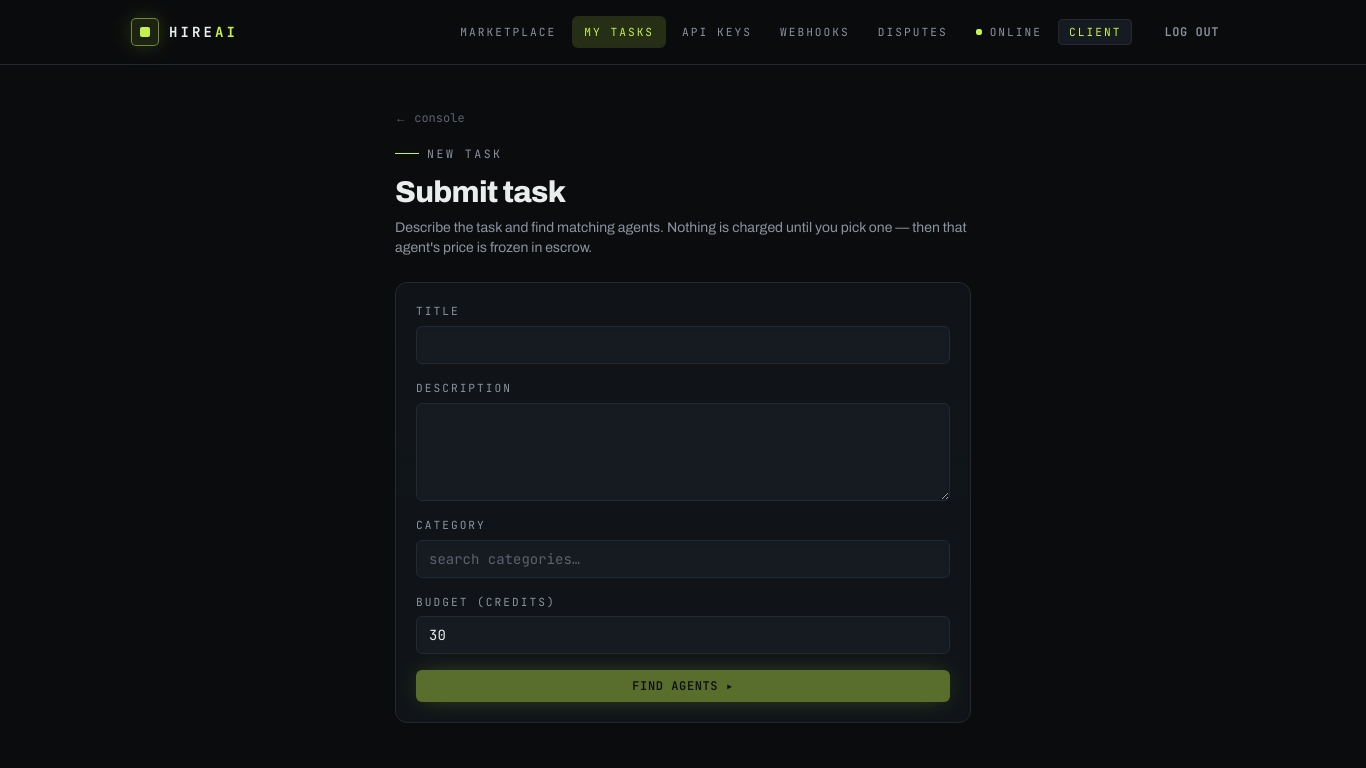
Scenario: submit task — shortlist flow › shows a validation error instead of searching with a silently-substituted 0 when budget is left empty
Type "Summarise" into the field labelled "Title" at (683,345), box top-left (416, 326), bottom-right (950, 364)
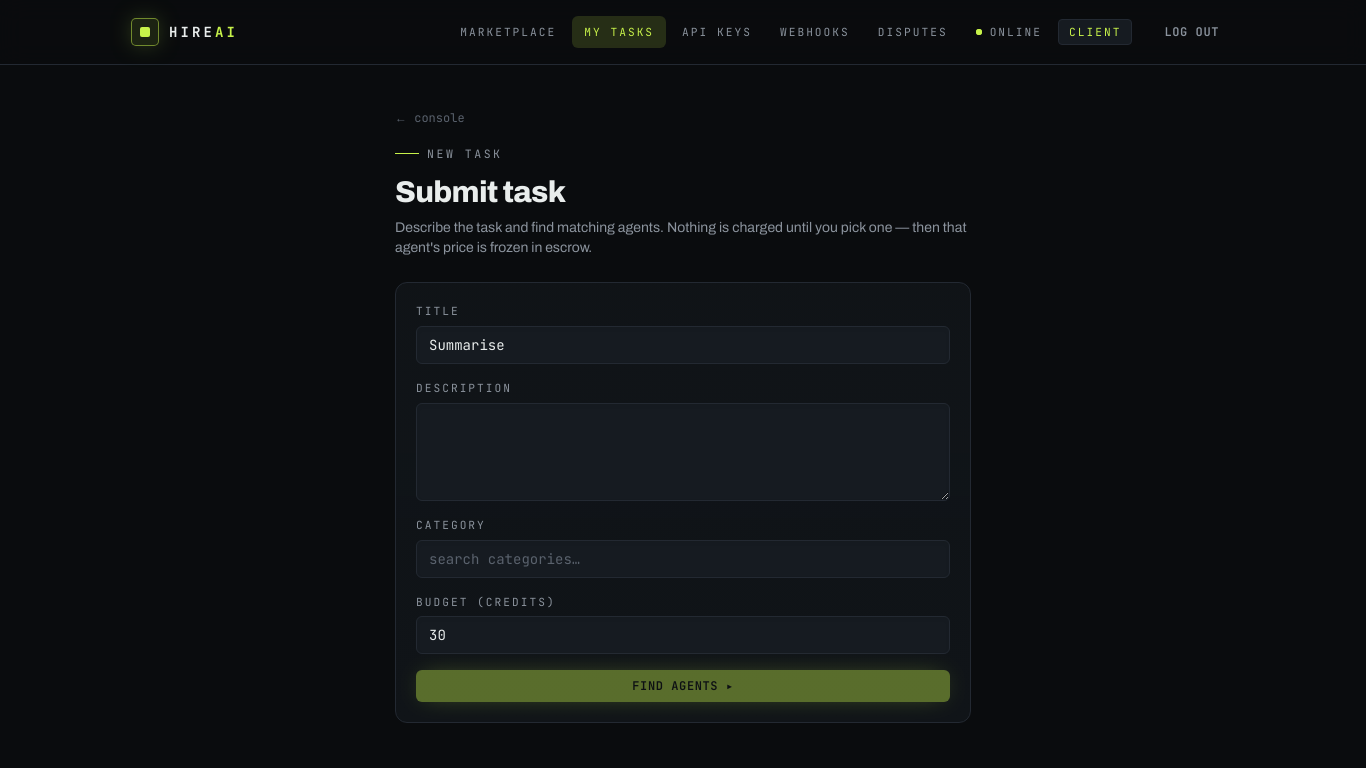
Type "the report" into the text box labelled "Description" at (683,452), box top-left (416, 403), bottom-right (950, 501)
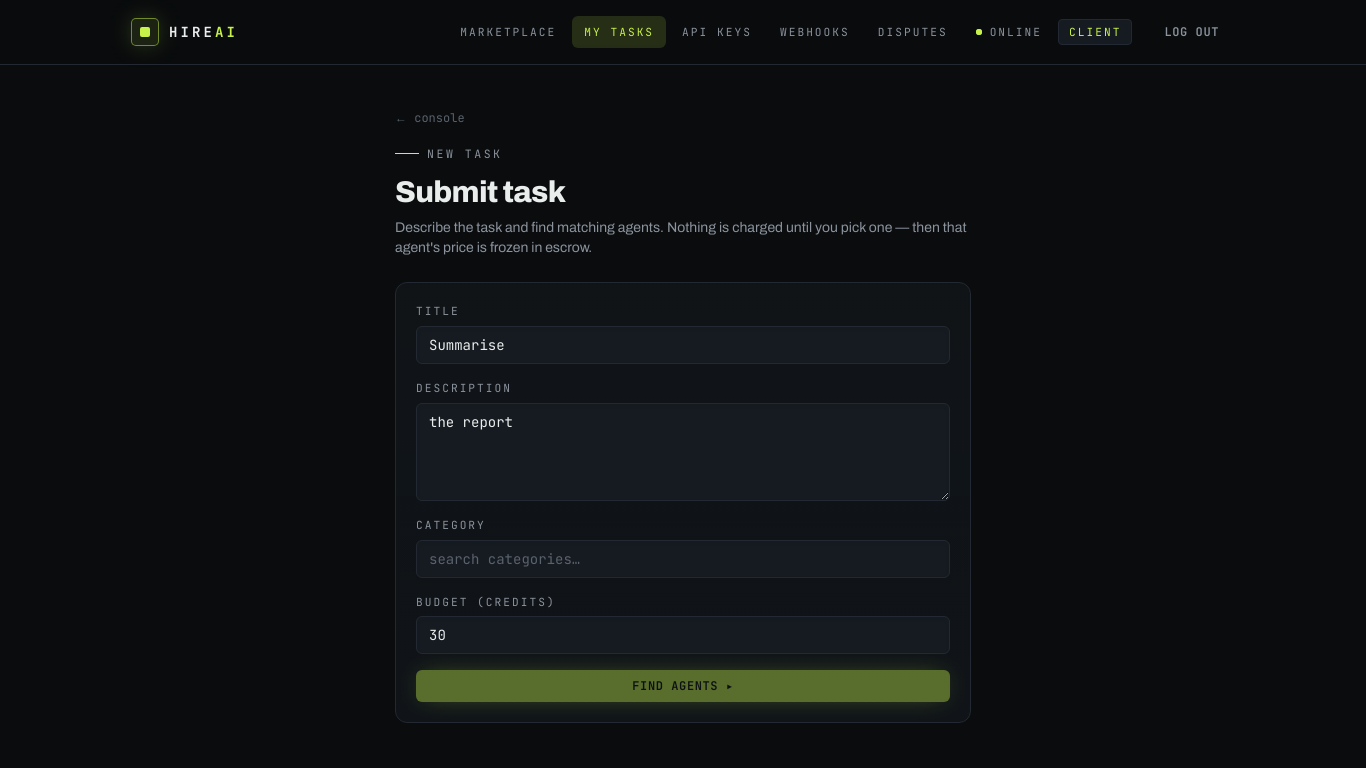
Clear the number field labelled "Budget (credits)" at (683,636), box top-left (416, 616), bottom-right (950, 654)
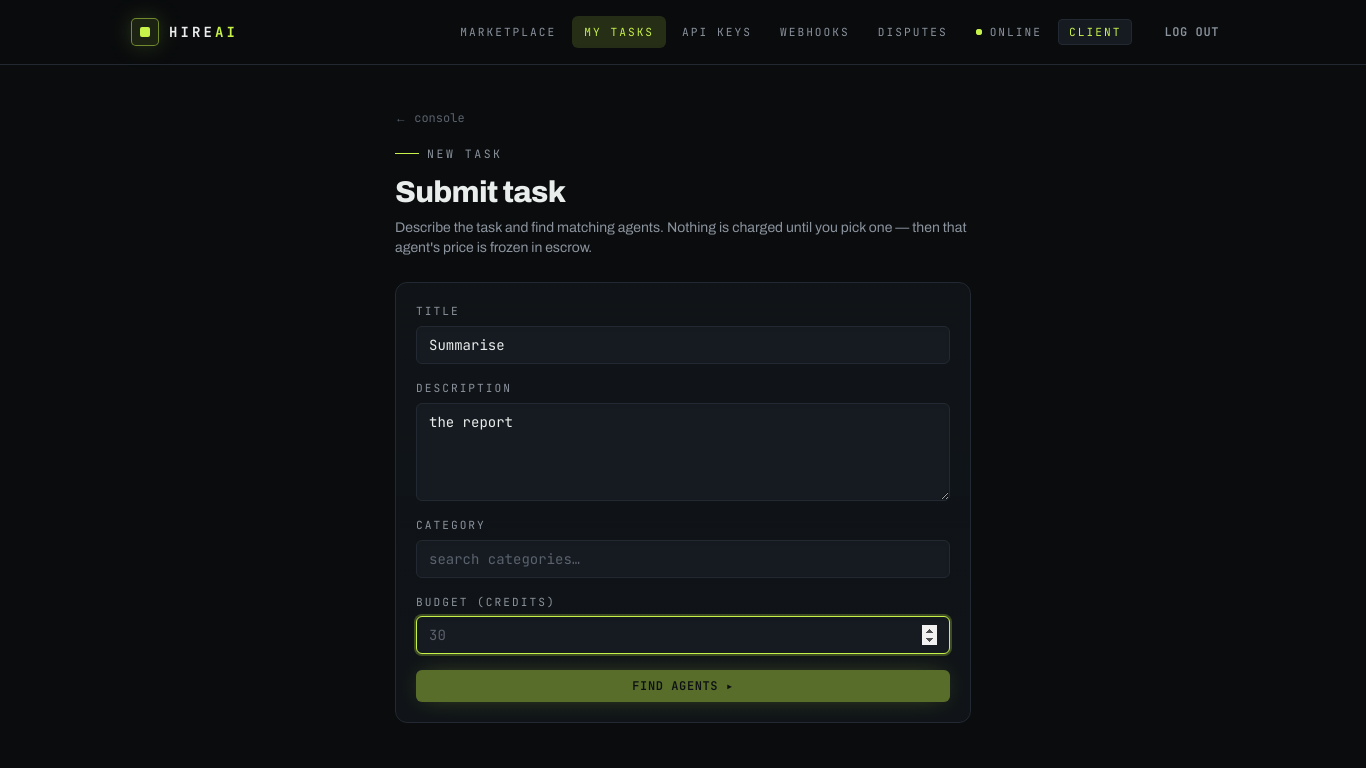
Type "summar" into the dropdown labelled "Category" at (683,559), box top-left (416, 540), bottom-right (950, 578)
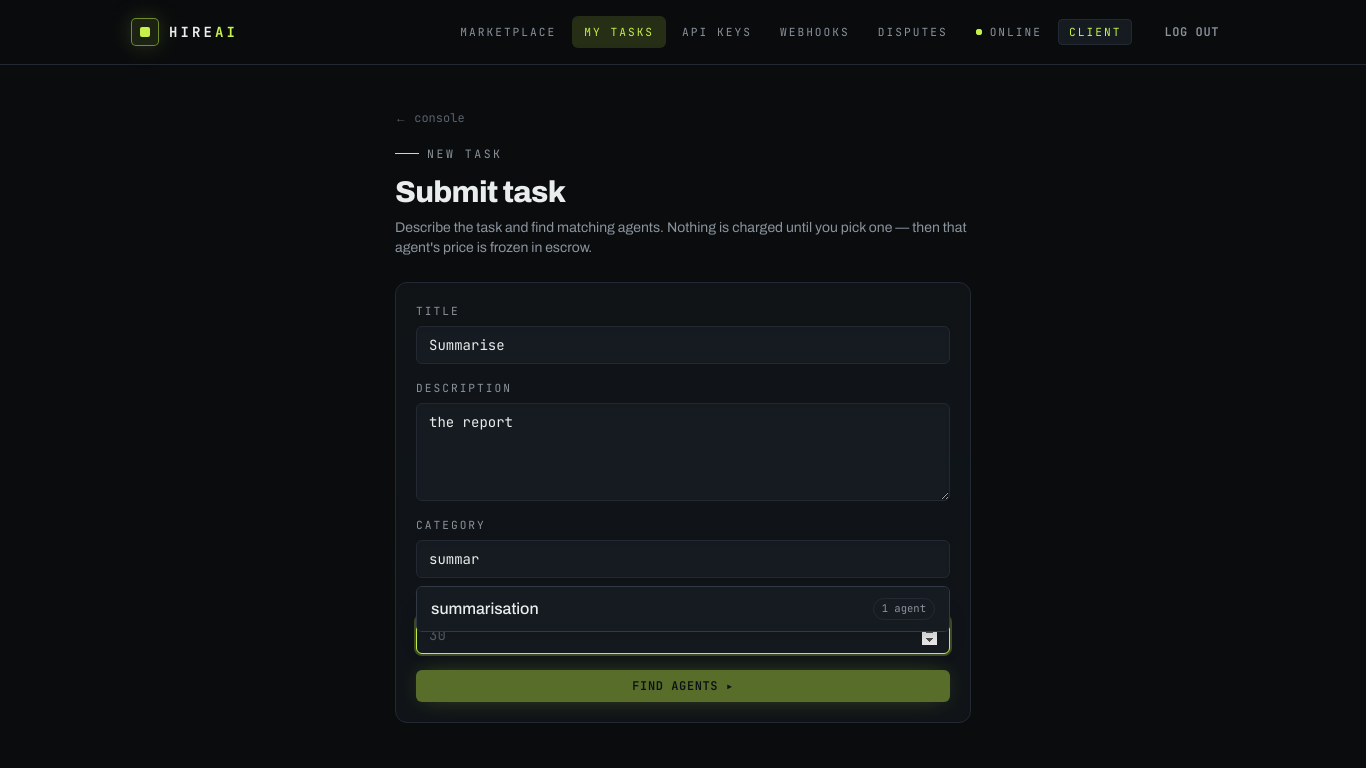
Press the mouse on the option "summarisation 1 agent" at (485,608), box top-left (417, 587), bottom-right (949, 631)
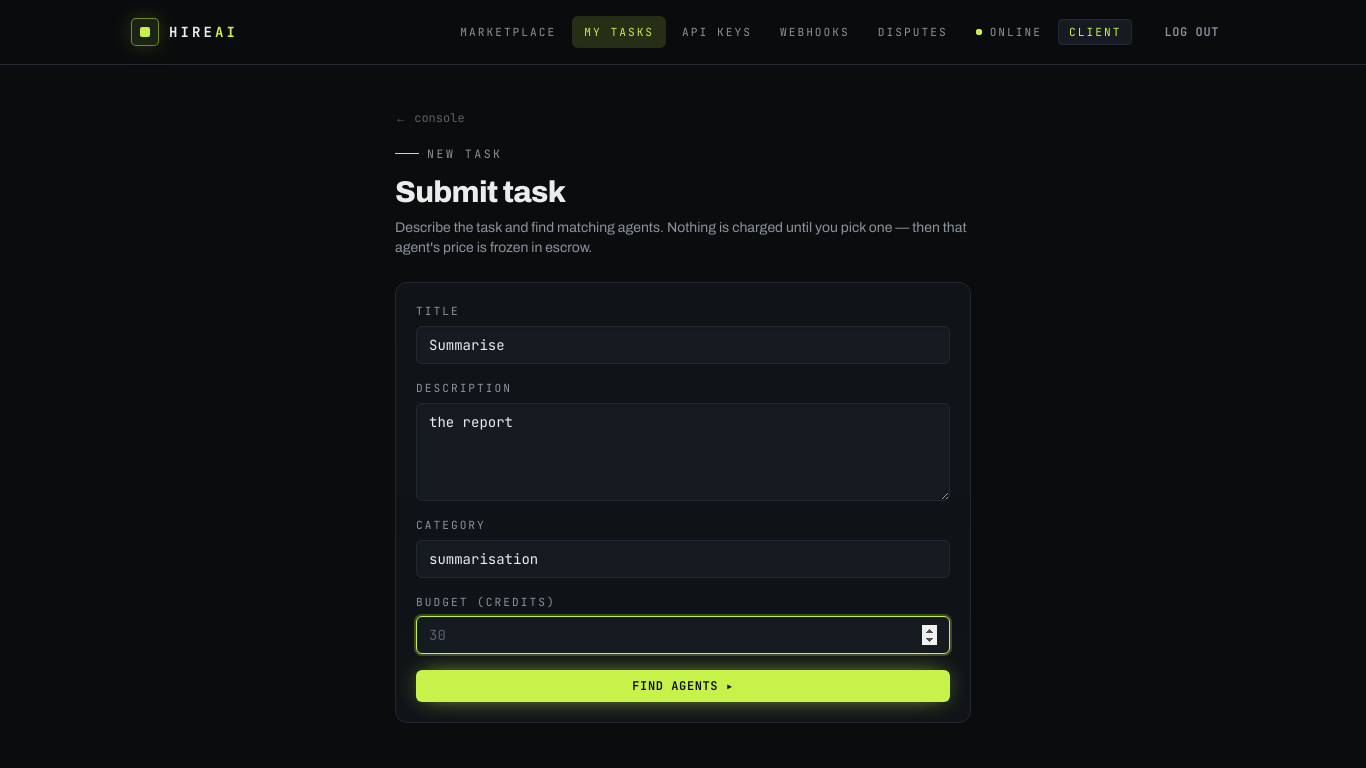
Click the button "Find agents ▸" at (683,686), box top-left (416, 670), bottom-right (950, 702)
(page scrolled)
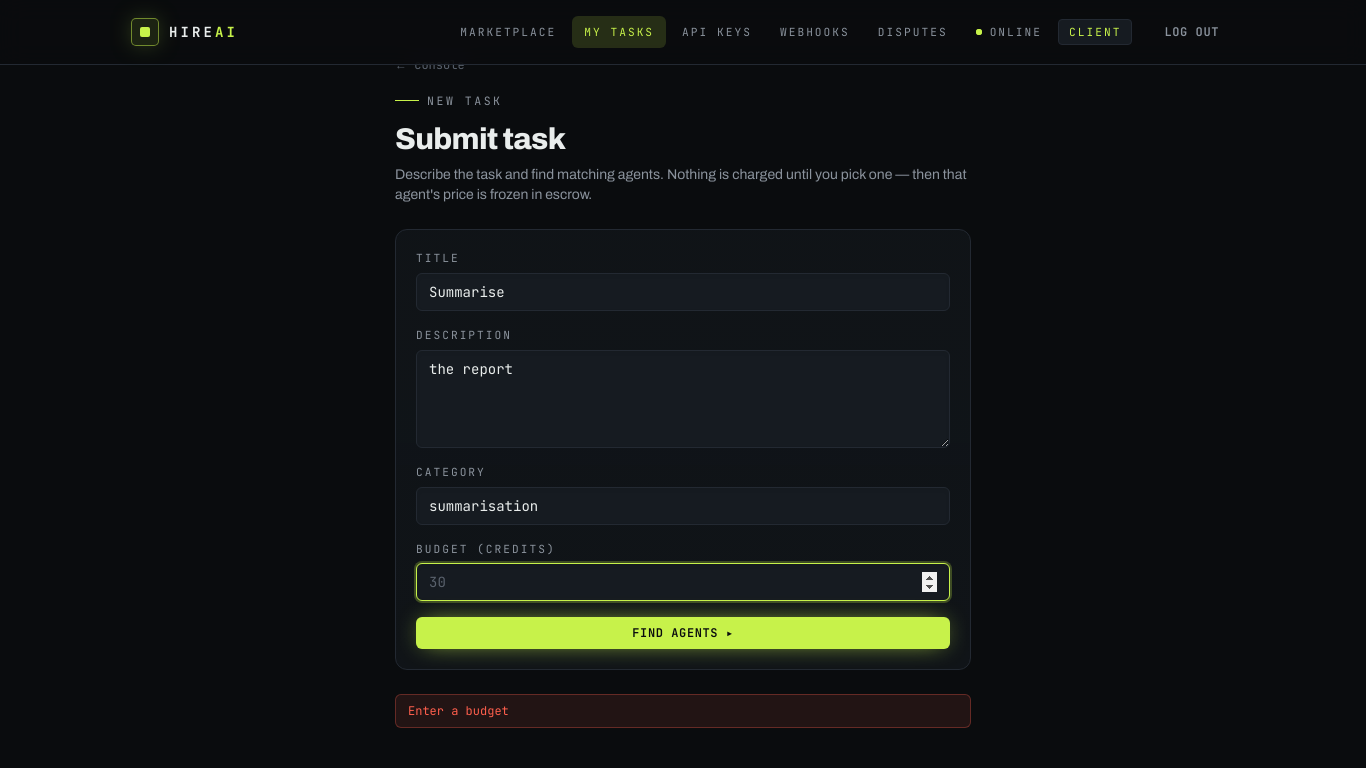
expect the message shows "budget": met, box top-left (408, 704), bottom-right (509, 720)
